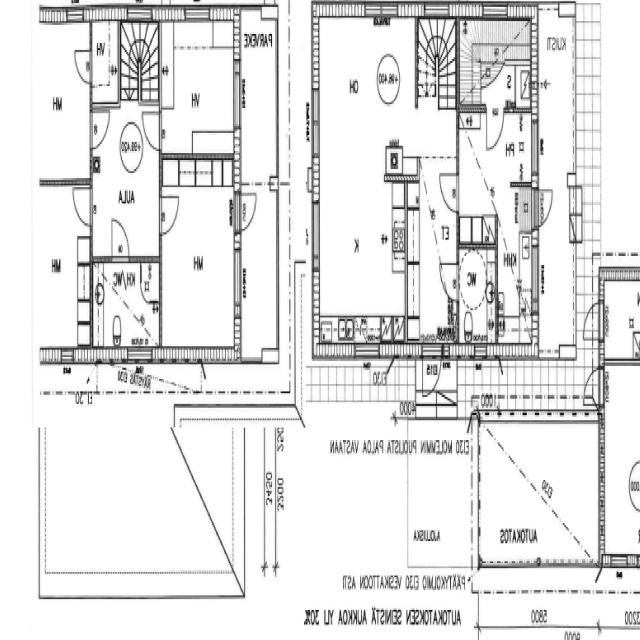door: (423, 341, 441, 399), (233, 194, 260, 232), (582, 300, 605, 339), (140, 111, 162, 151), (158, 195, 180, 234), (112, 217, 130, 263), (73, 188, 94, 226), (583, 368, 605, 404), (439, 262, 459, 301), (532, 190, 555, 223), (487, 107, 504, 151), (90, 112, 110, 147), (440, 175, 459, 211), (75, 51, 94, 84)
